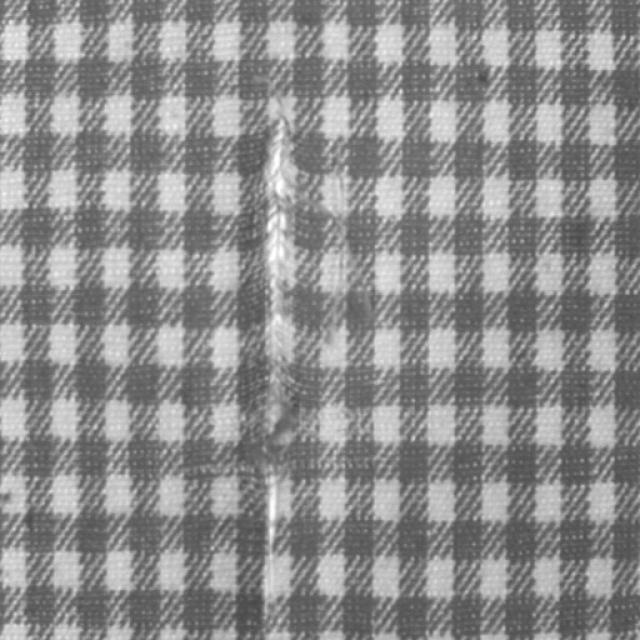Hole-Defect: (264, 109, 298, 589)
